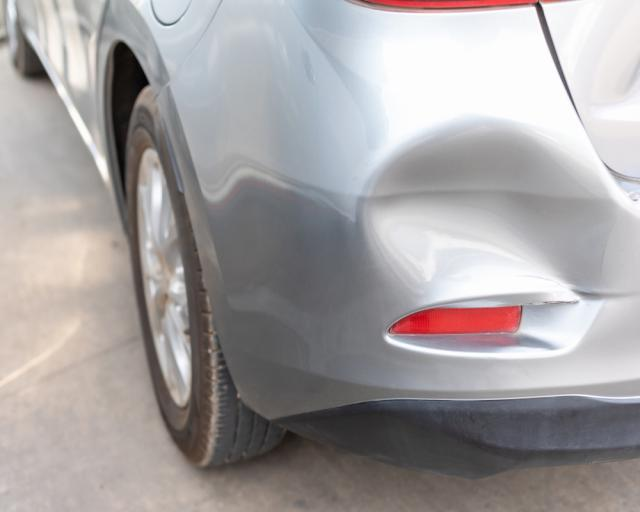dent: (368, 126, 614, 297)
